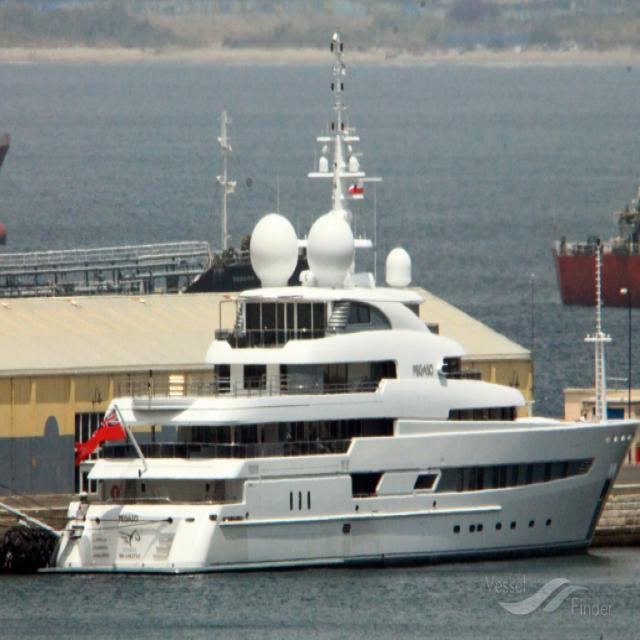Yacht: (60, 35, 640, 572)
